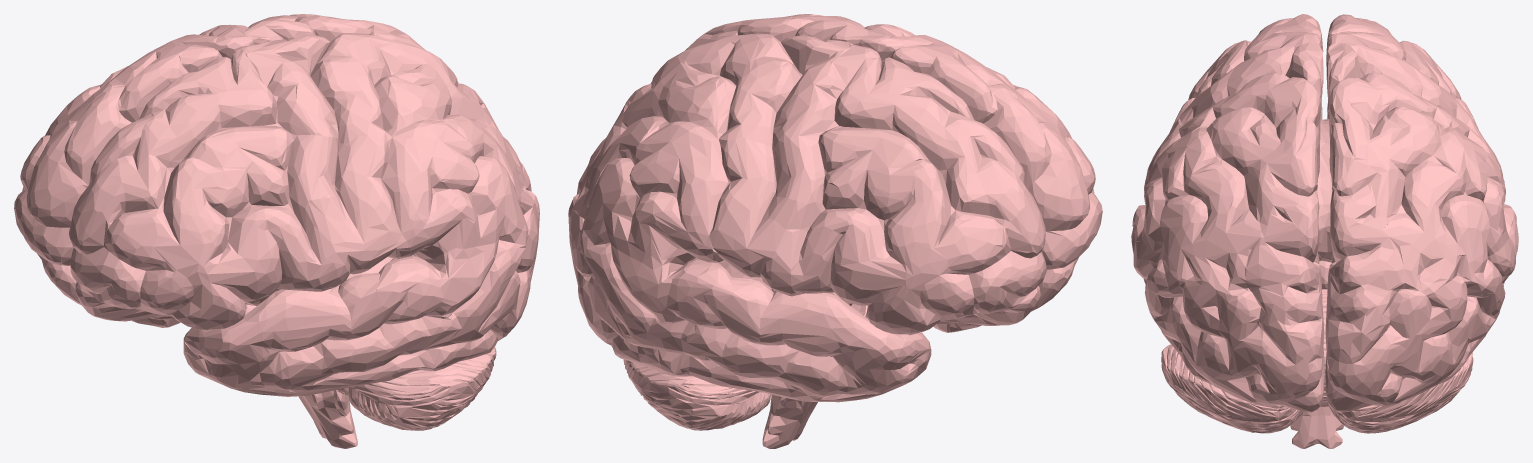
The model's file is brain-simple-mesh.obj.
The picture shows the model from 3 angles, left to right: view 1: azimuth 30°, elevation 25°; view 2: azimuth 150°, elevation 25°; view 3: azimuth 270°, elevation 25°; orthographic projection. The views are drawn at different scales.
Parts seen in each view (by area): view 1: default; view 2: default; view 3: default.
Boxes of the visible parts, x1,y1,x2,y2 form: default: [14, 14, 539, 448]; default: [568, 14, 1102, 448]; default: [1131, 14, 1518, 448].
Size of the model in its own units: 6.4 by 5.61 by 5.29.
